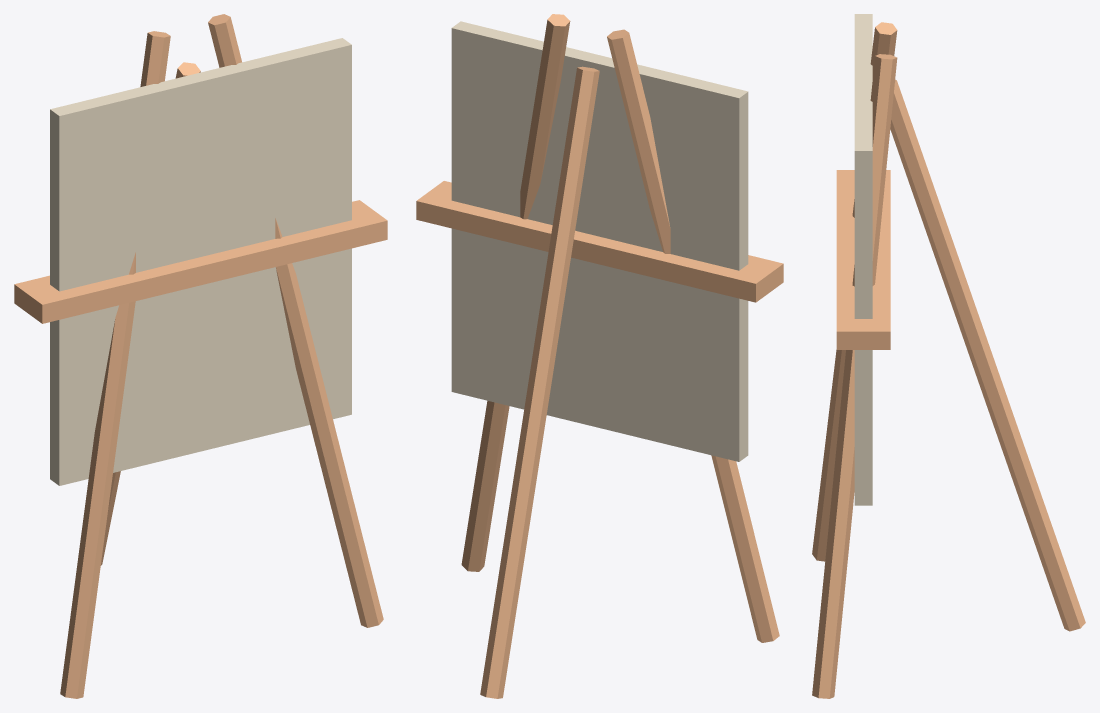
3 renders of one model, left to right at view 1: azimuth 30°, elevation 25°; view 2: azimuth 150°, elevation 25°; view 3: azimuth 270°, elevation 25°, orthographic. The views are drawn at different scales.
Visible parts, largest first — view 1: Canvas, Canvas rest, Side, Side.001, Rear leg; view 2: Canvas, Rear leg, Canvas rest, Side, Side.001; view 3: Rear leg, Side.001, Canvas, Canvas rest, Side.
Boxes of the visible parts, x1,y1,x2,y2 form: Canvas: (50, 38, 351, 485); Canvas rest: (14, 200, 387, 323); Side: (60, 31, 170, 698); Side.001: (208, 14, 383, 627); Rear leg: (100, 62, 200, 565); Canvas: (451, 21, 748, 461); Rear leg: (480, 66, 599, 698); Canvas rest: (416, 181, 783, 302); Side: (607, 29, 779, 642); Side.001: (461, 14, 570, 571); Rear leg: (890, 80, 1085, 631); Side.001: (812, 54, 897, 698); Canvas: (854, 14, 872, 505); Canvas rest: (836, 170, 890, 349); Side: (812, 22, 897, 561).
Size of the model in its own units: 0.85 by 1.44 by 0.6086.
Materials: 1 (1 with a texture image).
